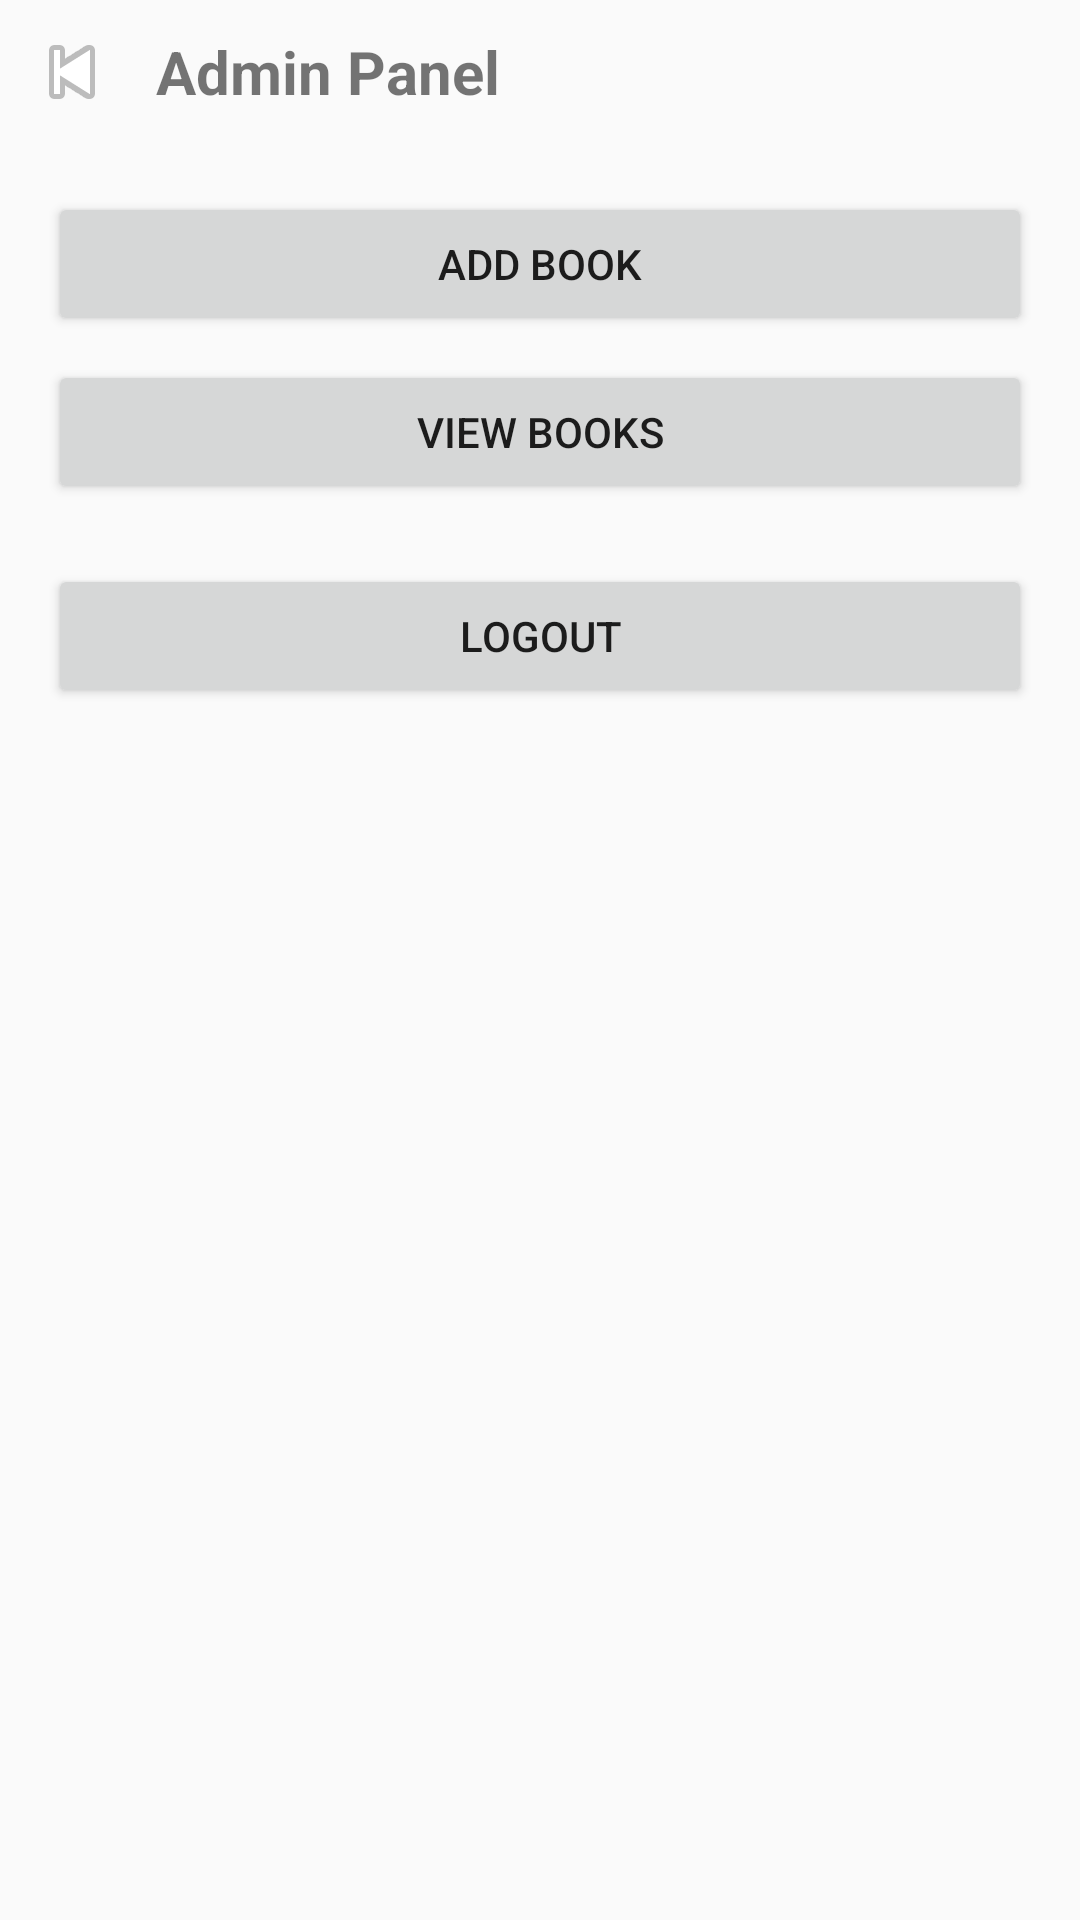

Icon click points for this 1080w x 1920h phone screenshot, format [x,y]:
Back: [72,72]
